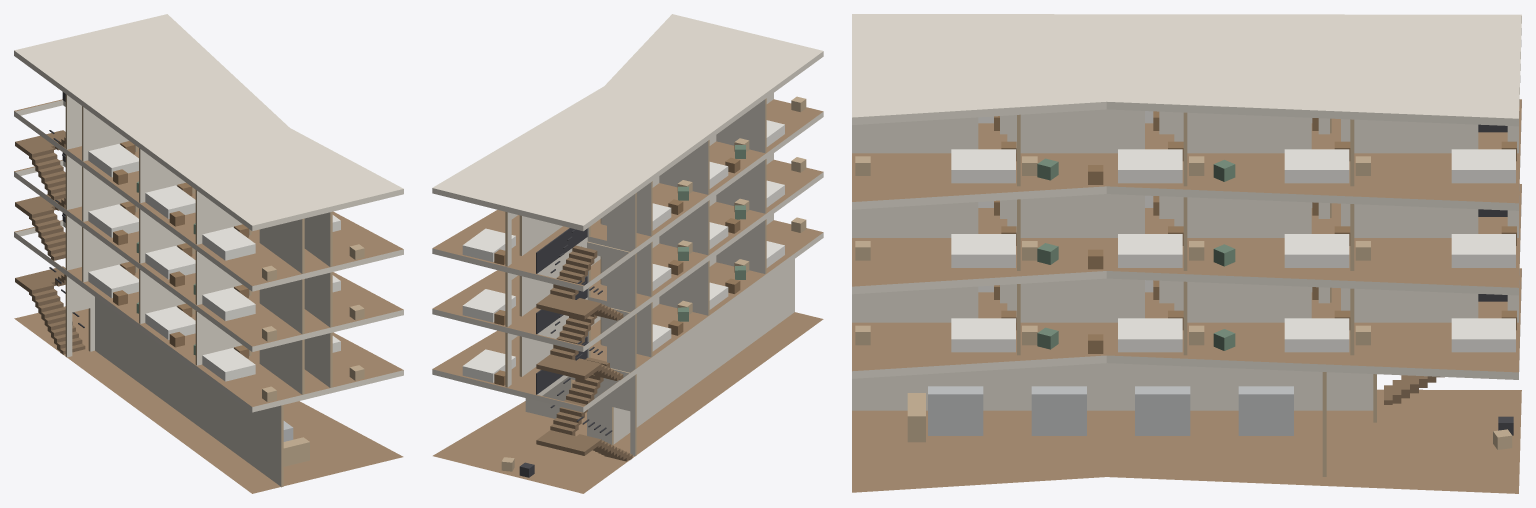
Rendered from interior.glb.
The picture shows the model from 3 angles, left to right: view 1: azimuth 30°, elevation 25°; view 2: azimuth 150°, elevation 25°; view 3: azimuth 270°, elevation 25°; orthographic projection. The views are drawn at different scales.
Parts seen in each view (by area): view 1: slabs, partitions, stair, coarse-s2, coarse-s1, coarse-s3, coarse-s0; view 2: slabs, partitions, stair, coarse-s1, coarse-s2, coarse-s3; view 3: slabs, partitions, coarse-s0, coarse-s1, coarse-s3, coarse-s2, stair.
Boxes of the visible parts, bbox=[...] form: slabs: bbox=[14, 14, 403, 493]; partitions: bbox=[65, 94, 332, 487]; stair: bbox=[15, 92, 85, 354]; coarse-s2: bbox=[88, 201, 364, 341]; coarse-s1: bbox=[88, 262, 364, 402]; coarse-s3: bbox=[88, 141, 364, 281]; coarse-s0: bbox=[283, 421, 309, 466]; slabs: bbox=[432, 14, 823, 493]; partitions: bbox=[505, 93, 794, 455]; stair: bbox=[536, 228, 632, 461]; coarse-s1: bbox=[462, 217, 806, 385]; coarse-s2: bbox=[462, 157, 806, 325]; coarse-s3: bbox=[462, 96, 806, 264]; slabs: bbox=[852, 14, 1521, 493]; partitions: bbox=[852, 109, 1518, 476]; coarse-s0: bbox=[907, 386, 1513, 449]; coarse-s1: bbox=[855, 280, 1516, 353]; coarse-s3: bbox=[855, 111, 1516, 184]; coarse-s2: bbox=[855, 195, 1516, 269]; stair: bbox=[1384, 124, 1507, 404].
Size of the model in its own units: 7.66 by 12.81 by 20.69.
